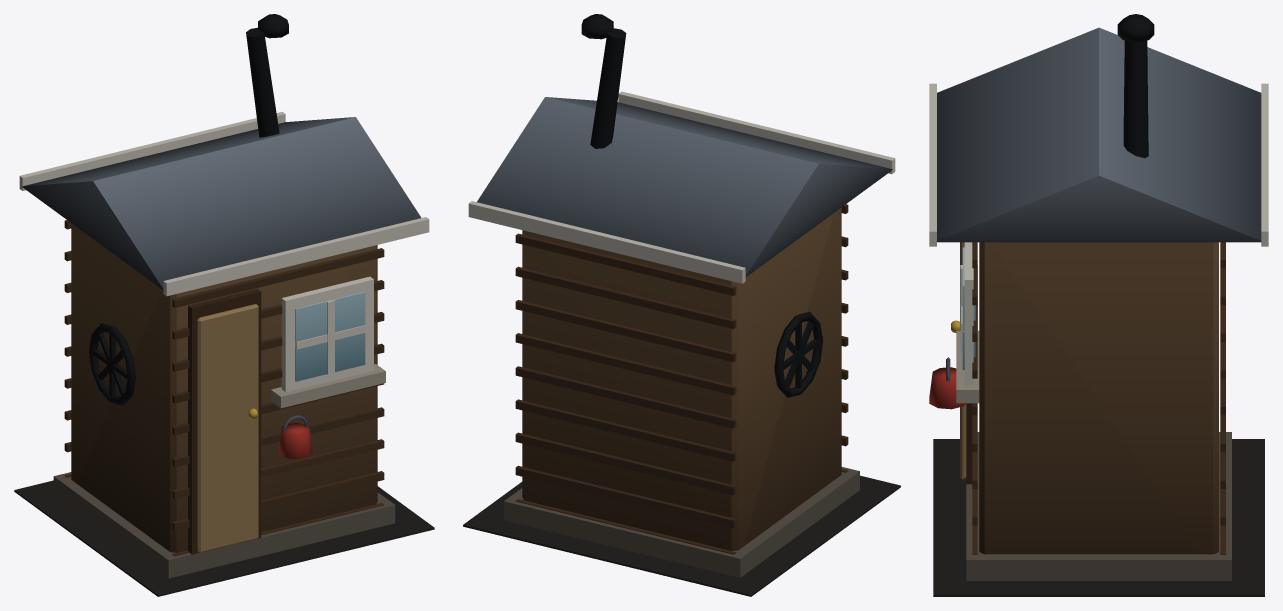
The model's file is crossing-keeper-hut.glb.
The picture shows the model from 3 angles, left to right: view 1: azimuth 30°, elevation 25°; view 2: azimuth 150°, elevation 25°; view 3: azimuth 270°, elevation 25°; orthographic projection. The views are drawn at different scales.
Visible parts, largest first — view 1: crossing_keeper_hut; view 2: crossing_keeper_hut; view 3: crossing_keeper_hut.
Boxes of the visible parts, box(x1,y1,x2,y2) form: crossing_keeper_hut: box(14, 14, 434, 596); crossing_keeper_hut: box(463, 14, 900, 596); crossing_keeper_hut: box(929, 14, 1268, 596).
Size of the model in its own units: 2 by 3.22 by 1.84.
